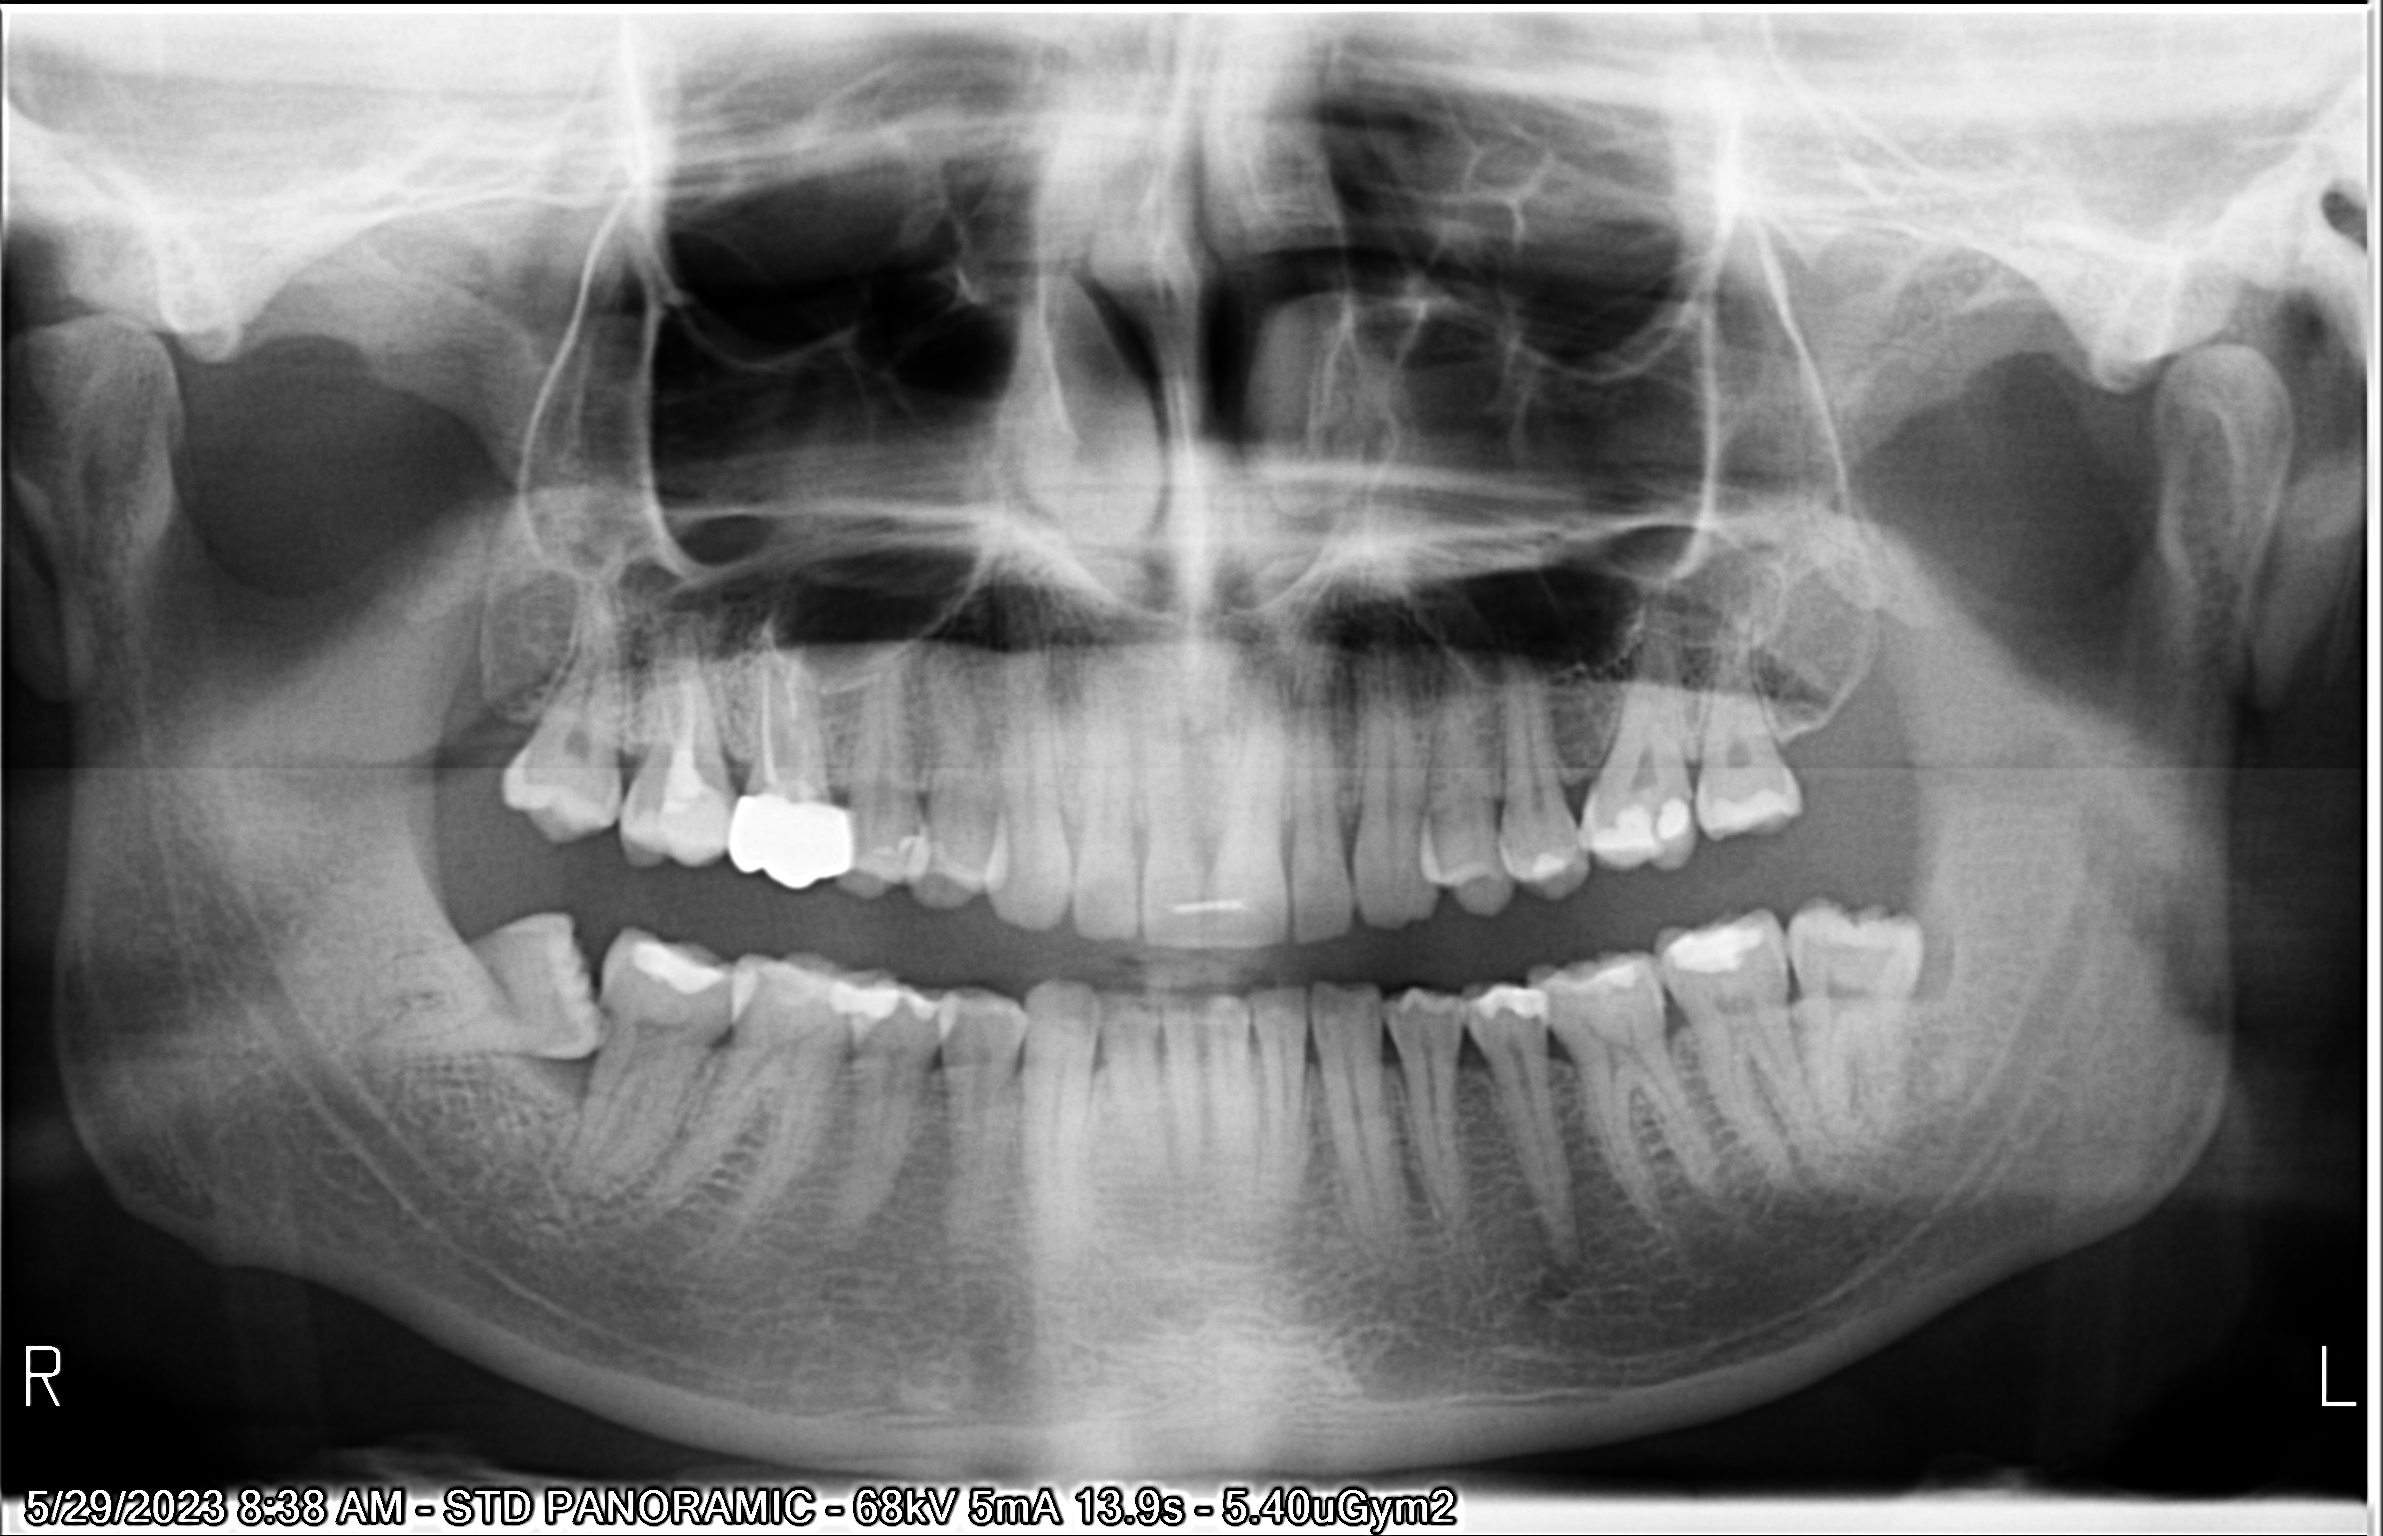END: (728, 627, 867, 782), (630, 631, 736, 818)
IMT: (363, 914, 610, 1086)
OBT: (799, 964, 940, 1063), (596, 785, 742, 869), (858, 813, 955, 926), (1541, 937, 1662, 1023), (639, 910, 735, 1006), (1582, 791, 1700, 867), (1664, 914, 1777, 992), (1459, 978, 1546, 1055), (1508, 832, 1567, 897)
ORD: (1139, 855, 1251, 959)
PRR: (740, 782, 868, 914)
